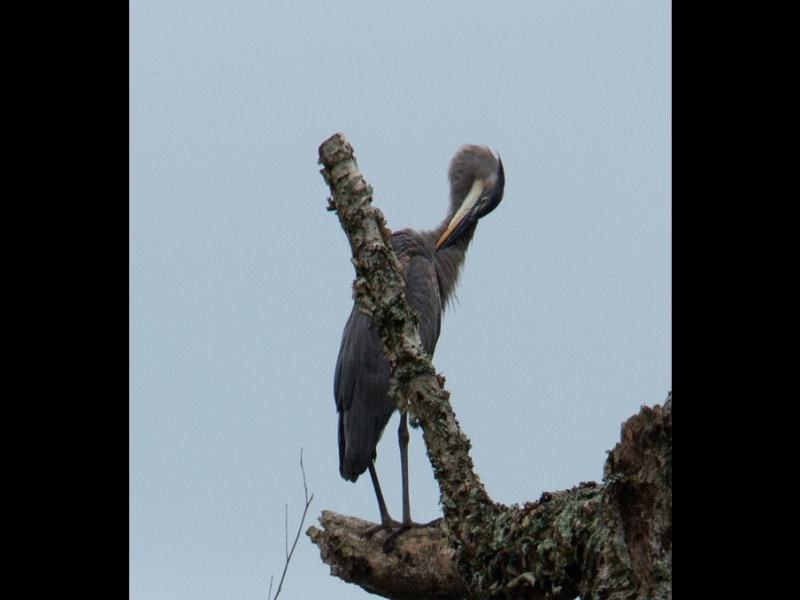heron: (329, 140, 510, 534)
